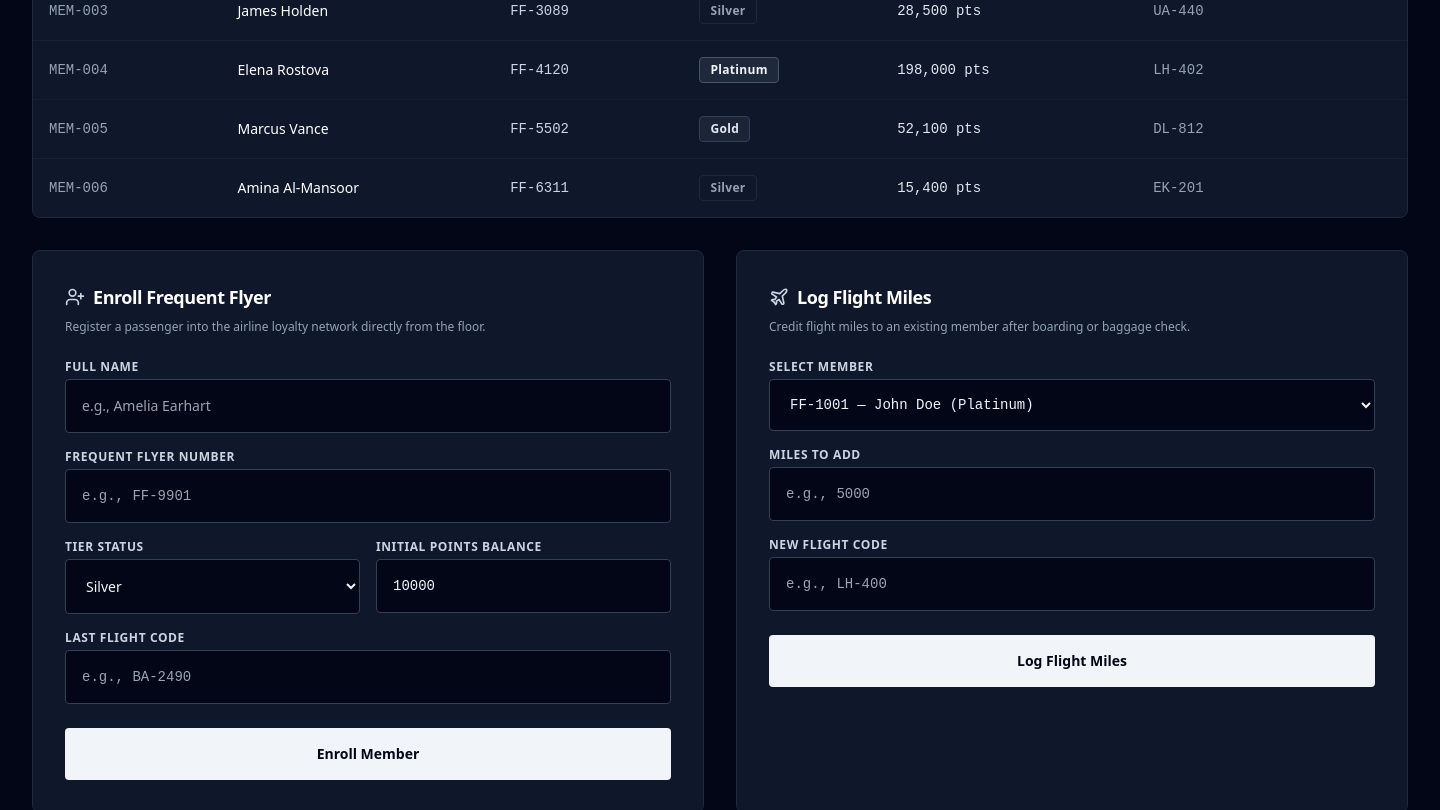
Test: Ticket ENG-163087: Frequent Flyer Portal - Strict TDD Test Suite › 1. Happy Path & Core Floor Workflows › successfully logs miles to an existing member and reflects updated points balance and total miles
(page scrolled)
Select "FF-1001 — John Doe (Platinum)" in the dropdown named "select member for flight log" at (1072, 405), box 769,379 -> 1375,431
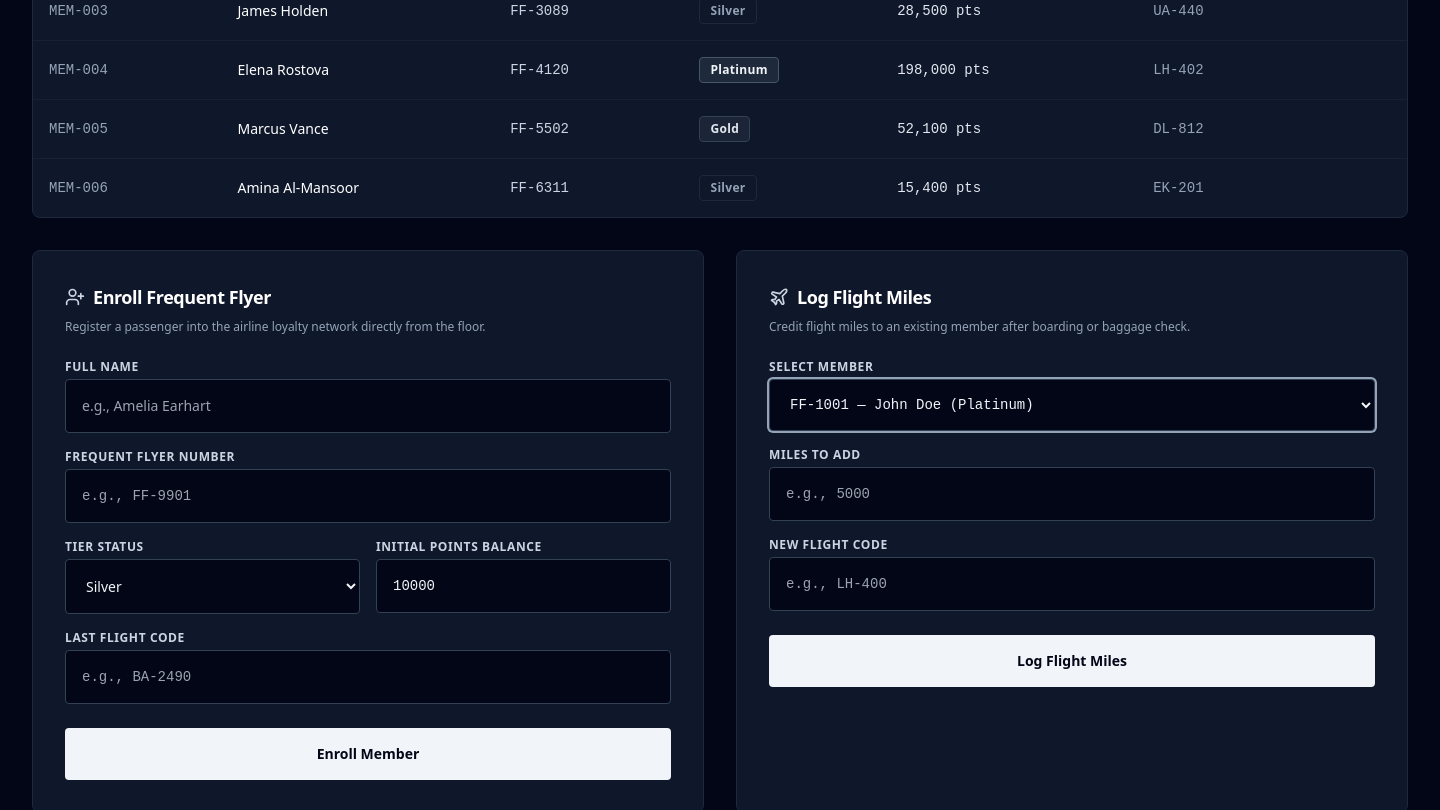
Type "5000" into the number field labelled "Miles to Add" at (1072, 494), box 769,467 -> 1375,521
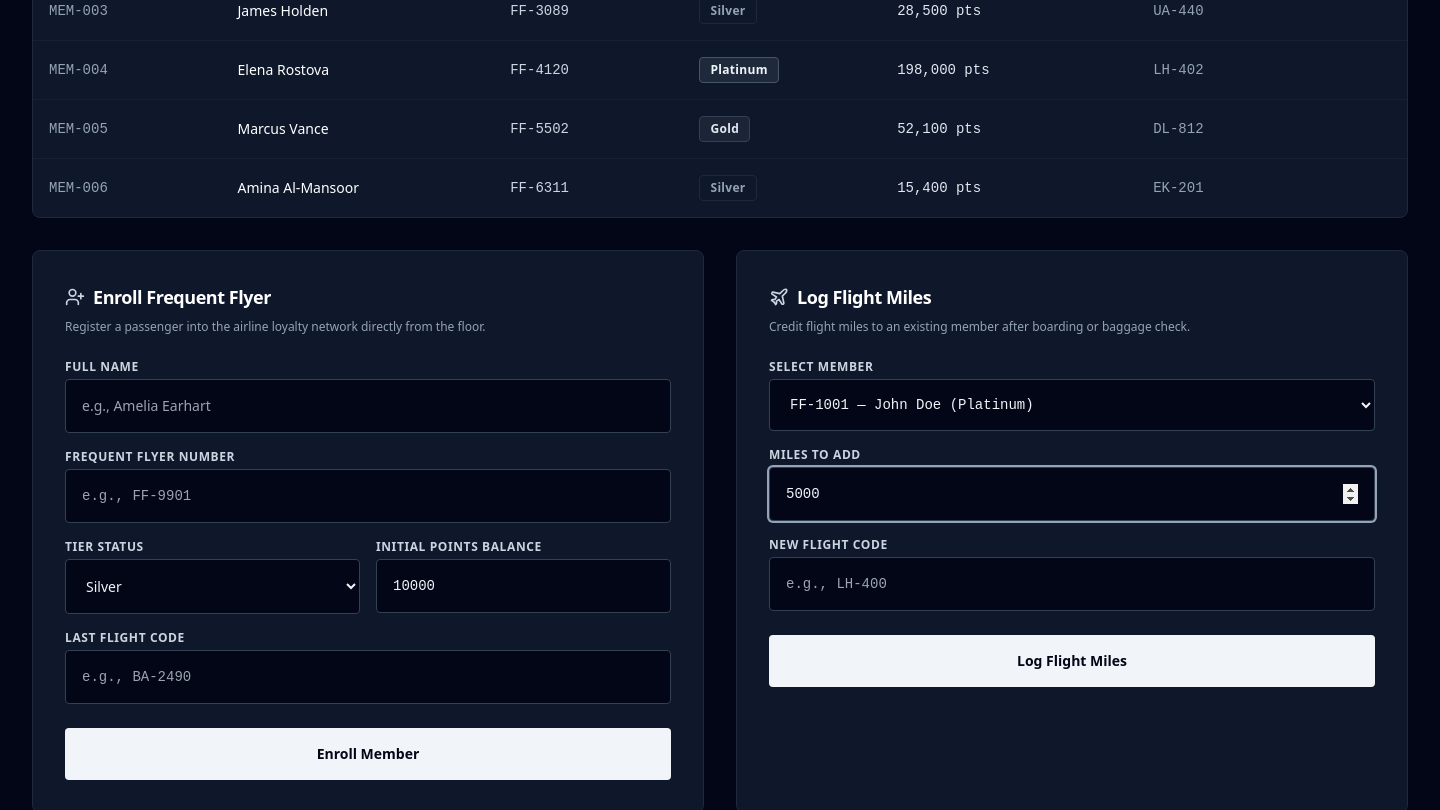
Type "LH-400" into the field labelled "New Flight Code" at (1072, 584), box 769,557 -> 1375,611
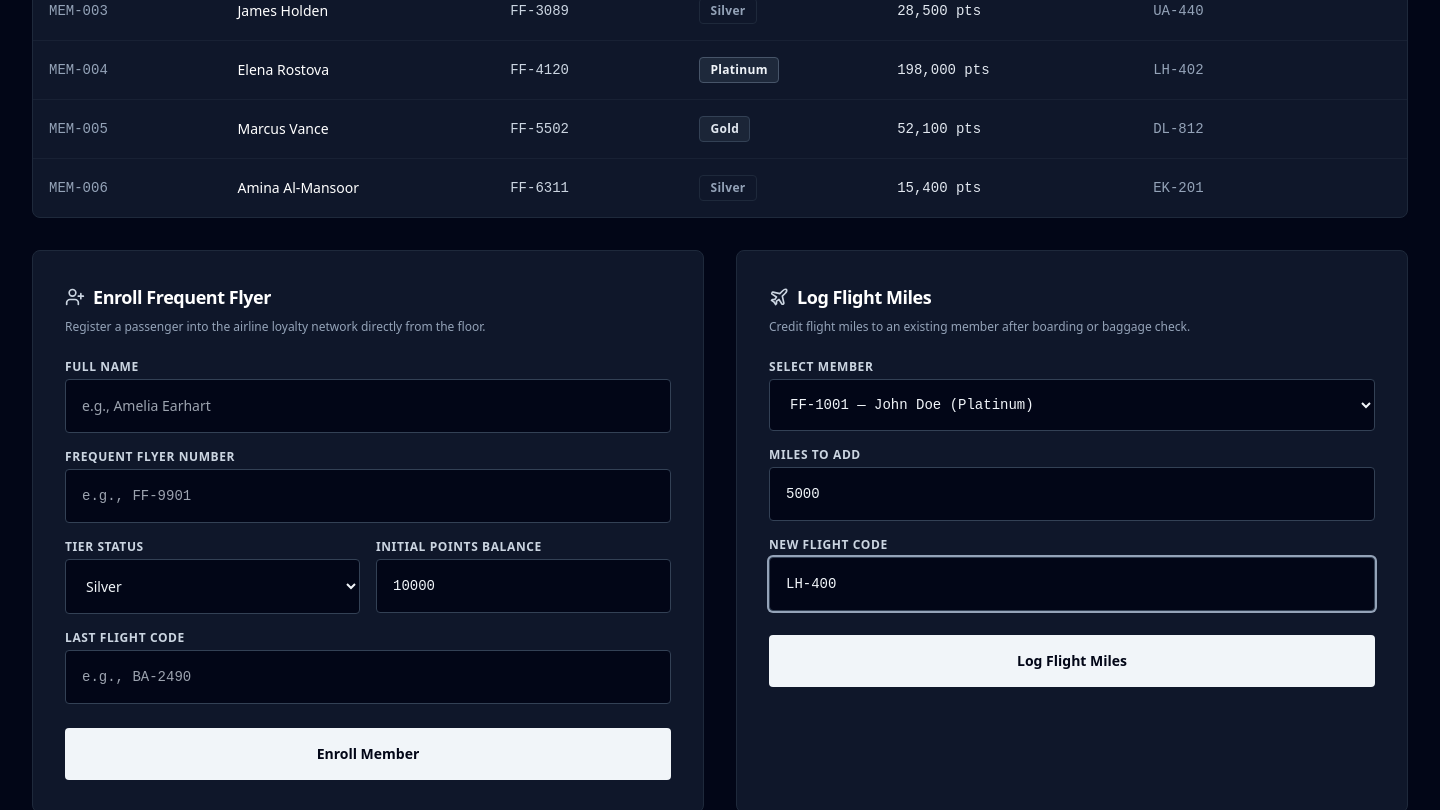
Click the button "Log Flight Miles" at (1072, 661), box 769,635 -> 1375,687
(page scrolled)
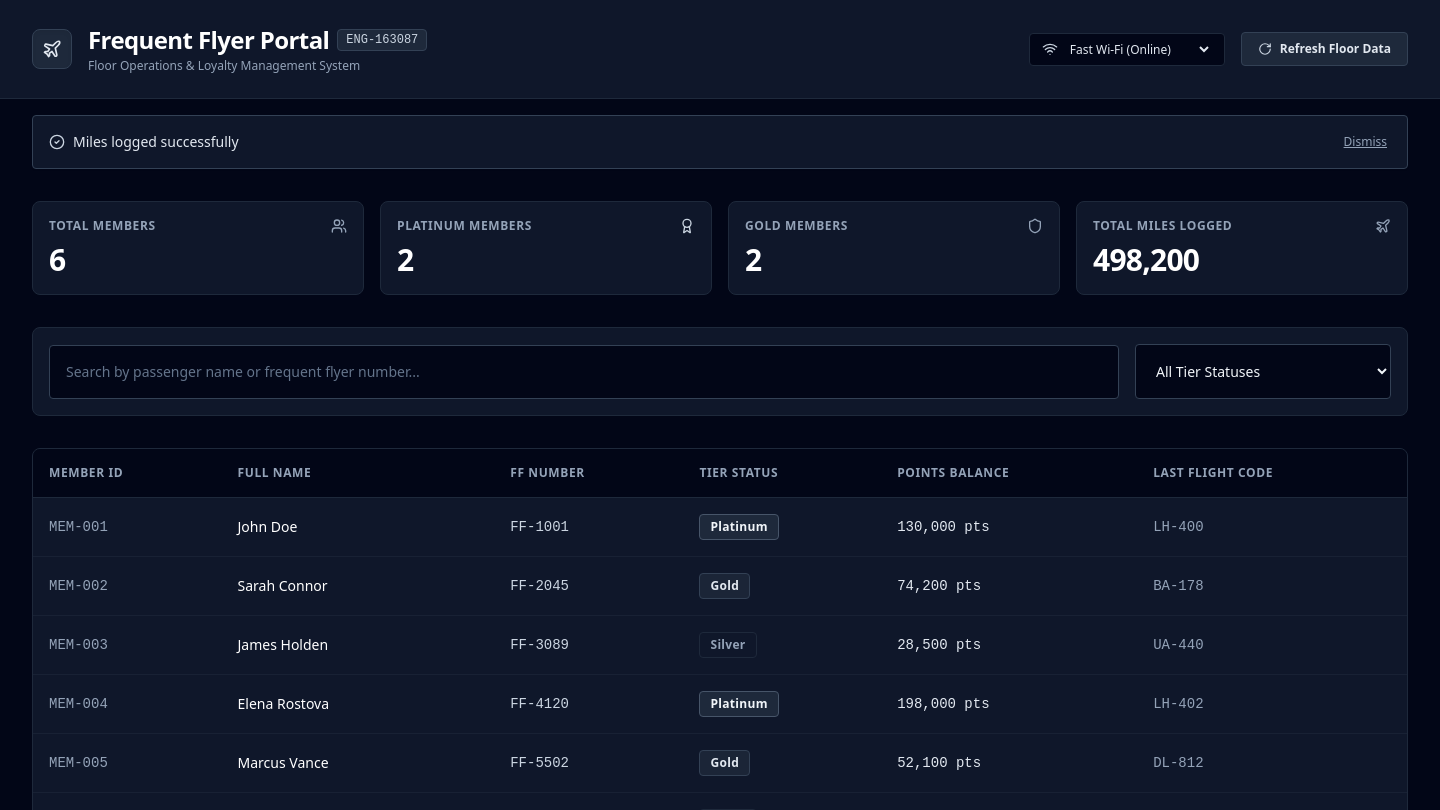
Now the text "Miles logged successfully" is shown, box 73,132 -> 239,152
